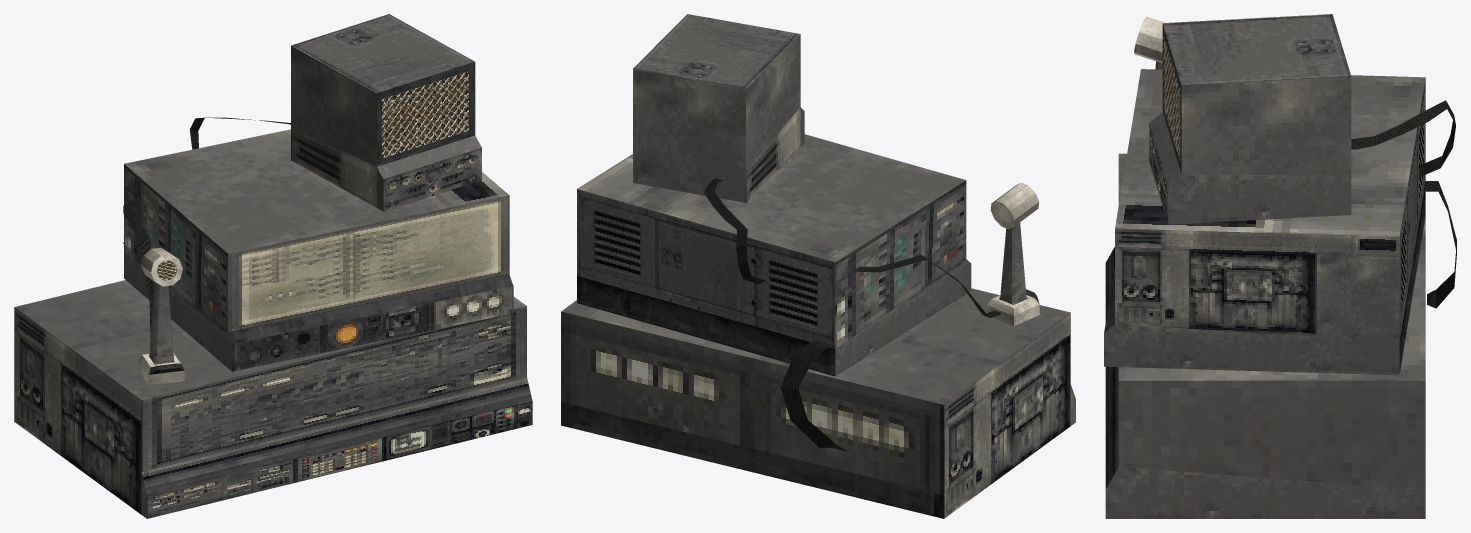
File: radio_base.glb
3 renders of one model, left to right at view 1: azimuth 30°, elevation 25°; view 2: azimuth 150°, elevation 25°; view 3: azimuth 270°, elevation 25°, orthographic. The views are drawn at different scales.
Parts seen in each view (by area): view 1: radio_base; view 2: radio_base; view 3: radio_base.
Boxes of the visible parts, bbox=[...] form: radio_base: bbox=[14, 14, 532, 518]; radio_base: bbox=[561, 14, 1075, 518]; radio_base: bbox=[1104, 14, 1456, 518].
Bounding box in the file's own units: 0.4215 × 0.362 × 0.2769.
4 materials, 4 textured.
